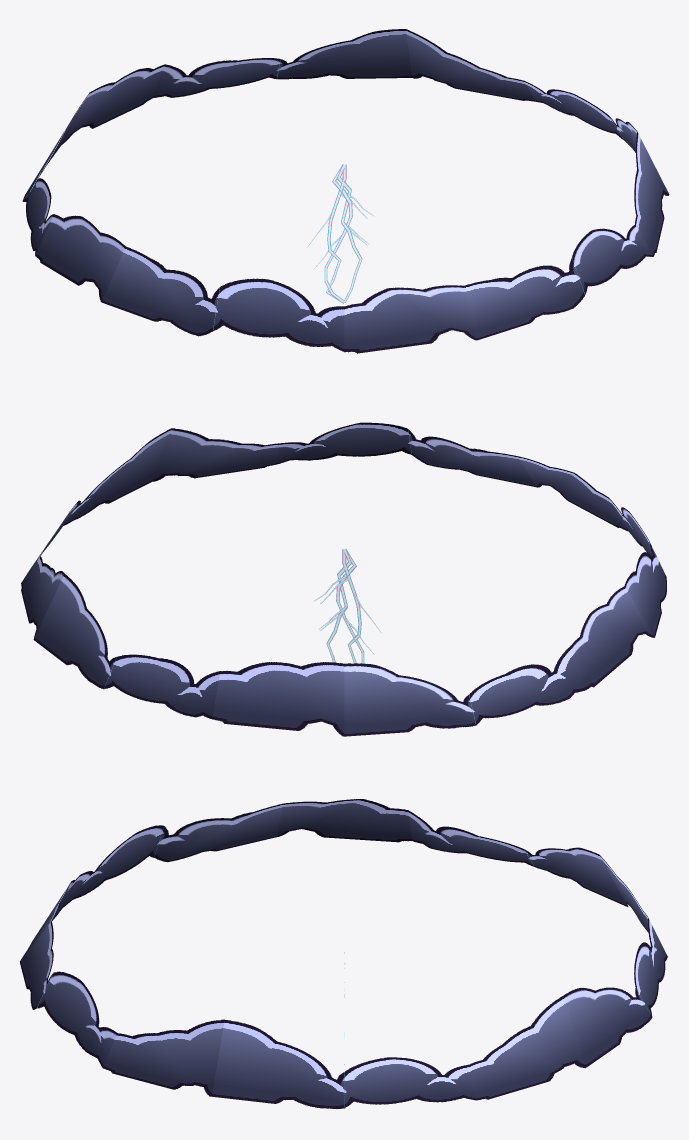
Rendered from wx_rain.glb.
The picture shows the model from 3 angles, top to bottom: view 1: azimuth 30°, elevation 25°; view 2: azimuth 150°, elevation 25°; view 3: azimuth 270°, elevation 25°; orthographic projection.
Parts seen in each view (by area): view 1: wx_clouds, wx_bolt_2, wx_bolt_0, wx_bolt_1; view 2: wx_clouds, wx_bolt_1, wx_bolt_2, wx_bolt_0; view 3: wx_clouds.
Boxes of the visible parts, x1,y1,x2,y2 form: wx_clouds: (22,29,669,353); wx_bolt_2: (313,164,374,301); wx_bolt_0: (337,164,369,302); wx_bolt_1: (307,164,367,303); wx_clouds: (21,422,666,736); wx_bolt_1: (320,549,381,663); wx_bolt_2: (314,549,374,663); wx_bolt_0: (318,549,351,662); wx_clouds: (20,799,667,1125).
Size of the model in its own units: 692 by 209 by 696.
5 materials, 4 textured.
